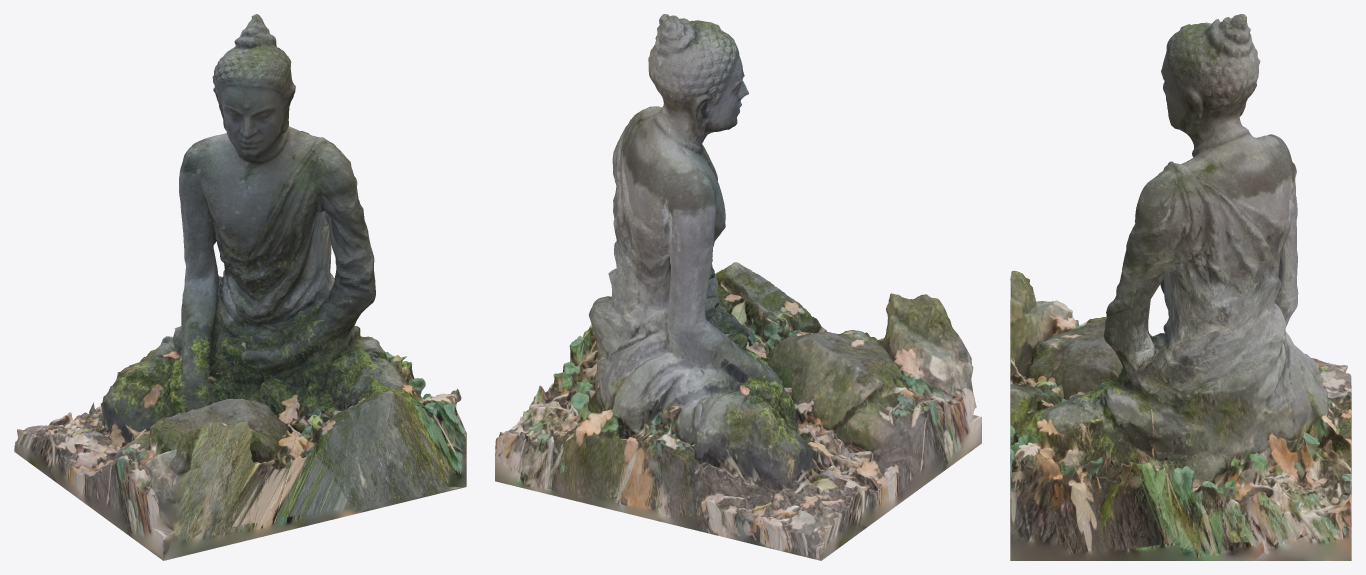
Rendered from sf-buddha-statue-da6f05.glb.
The picture shows the model from 3 angles, left to right: view 1: azimuth 30°, elevation 25°; view 2: azimuth 150°, elevation 25°; view 3: azimuth 270°, elevation 25°; orthographic projection. The views are drawn at different scales.
Visible parts, largest first — view 1: zoo-buddha_zoo-buddha_u1_v1_0, zoo-buddha_zoo-buddha_u2_v1_0; view 2: zoo-buddha_zoo-buddha_u1_v1_0, zoo-buddha_zoo-buddha_u2_v1_0; view 3: zoo-buddha_zoo-buddha_u1_v1_0, zoo-buddha_zoo-buddha_u2_v1_0.
Part boxes in pixels (box(x1,y1,x2,y2)): zoo-buddha_zoo-buddha_u1_v1_0: box(38, 14, 466, 560); zoo-buddha_zoo-buddha_u2_v1_0: box(14, 15, 466, 560); zoo-buddha_zoo-buddha_u1_v1_0: box(496, 14, 981, 548); zoo-buddha_zoo-buddha_u2_v1_0: box(495, 15, 981, 560); zoo-buddha_zoo-buddha_u1_v1_0: box(1010, 14, 1351, 516); zoo-buddha_zoo-buddha_u2_v1_0: box(1010, 14, 1351, 560).
Bounding box in the file's own units: 0.8962 × 1.2 × 0.7638.
2 materials, 2 textured.
